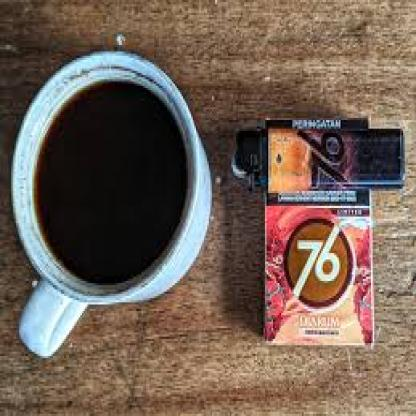bungkus rokok: (257, 108, 377, 348)
